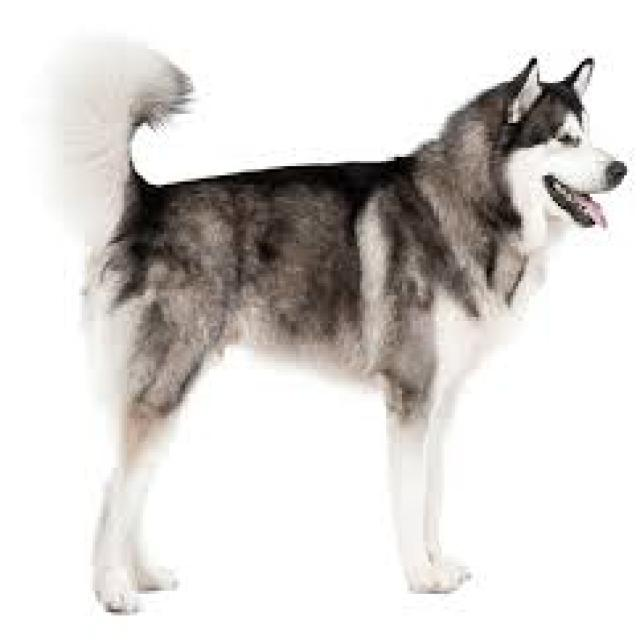ALASKAN_MALAMUTE: (36, 16, 630, 607)
